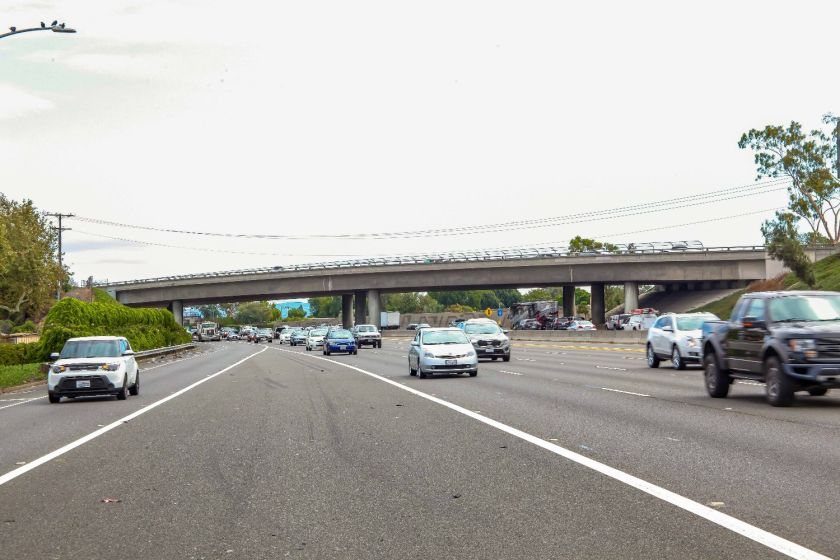bridge: (80, 240, 836, 301)
